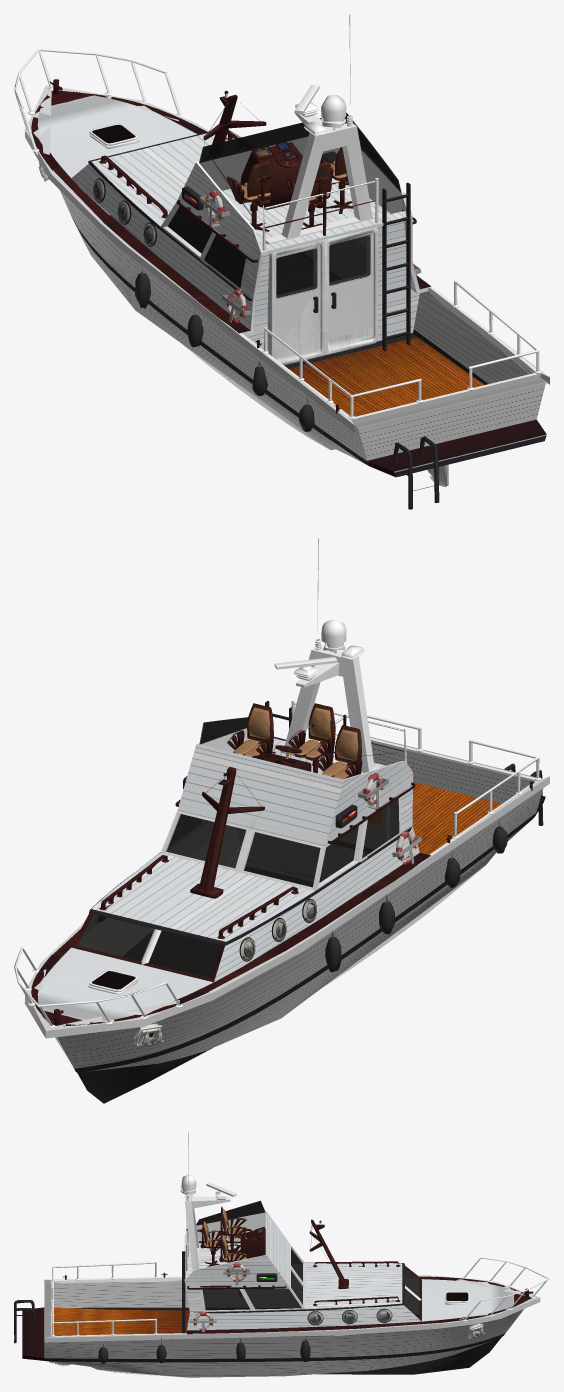
Rendered from cruiser.glb.
3 renders of one model, top to bottom at view 1: azimuth 30°, elevation 25°; view 2: azimuth 150°, elevation 25°; view 3: azimuth 270°, elevation 25°, orthographic. The views are drawn at different scales.
Visible parts, largest first — view 1: cruiser; view 2: cruiser; view 3: cruiser.
Part boxes in pixels (x1,y1,x2,y2): cruiser: (14, 14, 549, 509); cruiser: (14, 538, 549, 1103); cruiser: (14, 1132, 549, 1377).
Bounding box in the file's own units: 2.35 × 4.37 × 8.6.
Materials: 52 (48 with a texture image).
